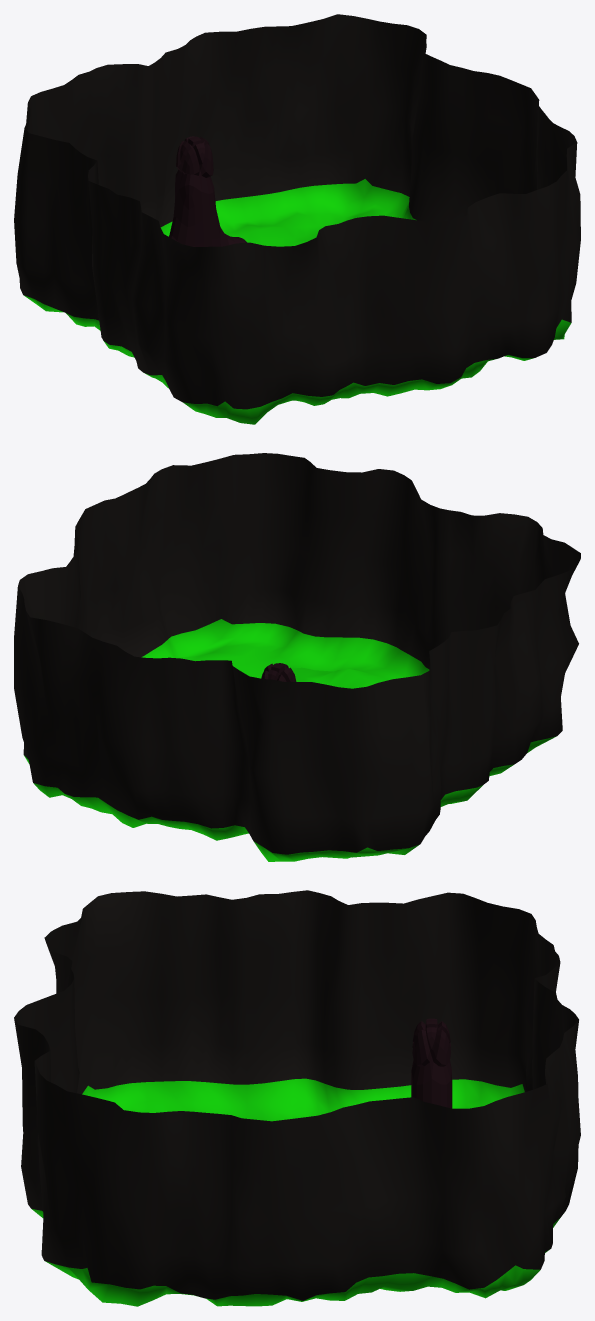
File: map.obj
3 renders of one model, top to bottom at view 1: azimuth 30°, elevation 25°; view 2: azimuth 150°, elevation 25°; view 3: azimuth 270°, elevation 25°, orthographic. The views are drawn at different scales.
Parts seen in each view (by area): view 1: peepee, Cube; view 2: peepee; view 3: peepee, Cube.
Part boxes in pixels (x1,y1,x2,y2): peepee: (14, 14, 580, 424); Cube: (168, 136, 246, 246); peepee: (14, 453, 580, 861); peepee: (14, 890, 580, 1306); Cube: (411, 1018, 452, 1108).
Bounding box in the file's own units: 24.94 × 10.59 × 25.65.
